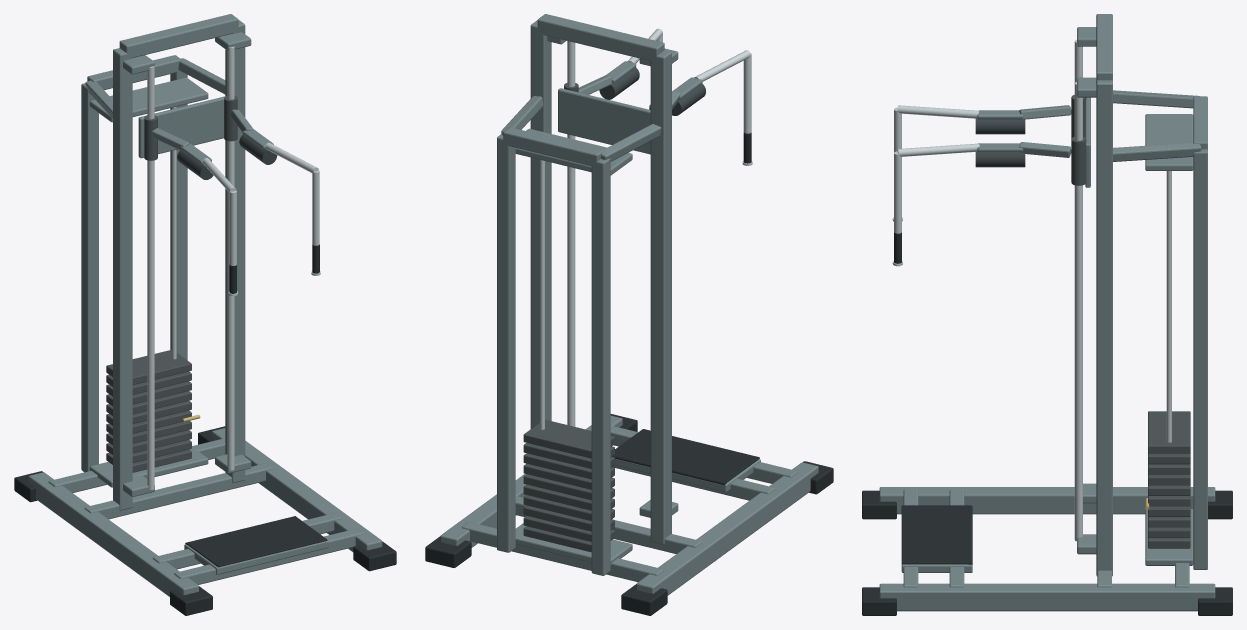
Rendered from calf-raise-machine.v1.glb.
3 renders of one model, left to right at view 1: azimuth 30°, elevation 25°; view 2: azimuth 150°, elevation 25°; view 3: azimuth 270°, elevation 25°, orthographic. The views are drawn at different scales.
Visible parts, largest first — view 1: Base crossmember, Carriage guide, Moving stack plate, Floor shoe, Carriage plate, Handle arm, Guide sleeve, Shoulder pad; view 2: Base crossmember, Moving stack plate, Floor shoe, Carriage plate, Carriage guide, Handle arm, Shoulder pad; view 3: Base crossmember, Floor shoe, Moving stack plate, Carriage guide, Carriage plate, Handle arm, Shoulder pad, Guide sleeve.
Boxes of the visible parts, x1,y1,x2,y2 form: Base crossmember: [28, 14, 382, 596]; Carriage guide: [147, 46, 234, 489]; Moving stack plate: [106, 349, 191, 472]; Floor shoe: [14, 426, 396, 615]; Carriage plate: [138, 96, 273, 164]; Handle arm: [203, 142, 320, 296]; Guide sleeve: [144, 96, 237, 160]; Shoulder pad: [177, 134, 277, 179]; Base crossmember: [440, 14, 818, 595]; Moving stack plate: [523, 419, 614, 552]; Floor shoe: [425, 414, 833, 615]; Carriage plate: [558, 61, 702, 154]; Carriage guide: [540, 41, 575, 429]; Handle arm: [627, 28, 752, 165]; Shoulder pad: [599, 67, 705, 115]; Base crossmember: [879, 14, 1215, 611]; Floor shoe: [862, 490, 1232, 615]; Moving stack plate: [1148, 411, 1190, 548]; Carriage guide: [1074, 40, 1171, 541]; Carriage plate: [977, 97, 1090, 187]; Handle arm: [892, 105, 979, 266]; Shoulder pad: [975, 118, 1025, 167]; Guide sleeve: [1071, 94, 1086, 185].
Bounding box in the file's own units: 1.43 × 3.09 × 2.01.
